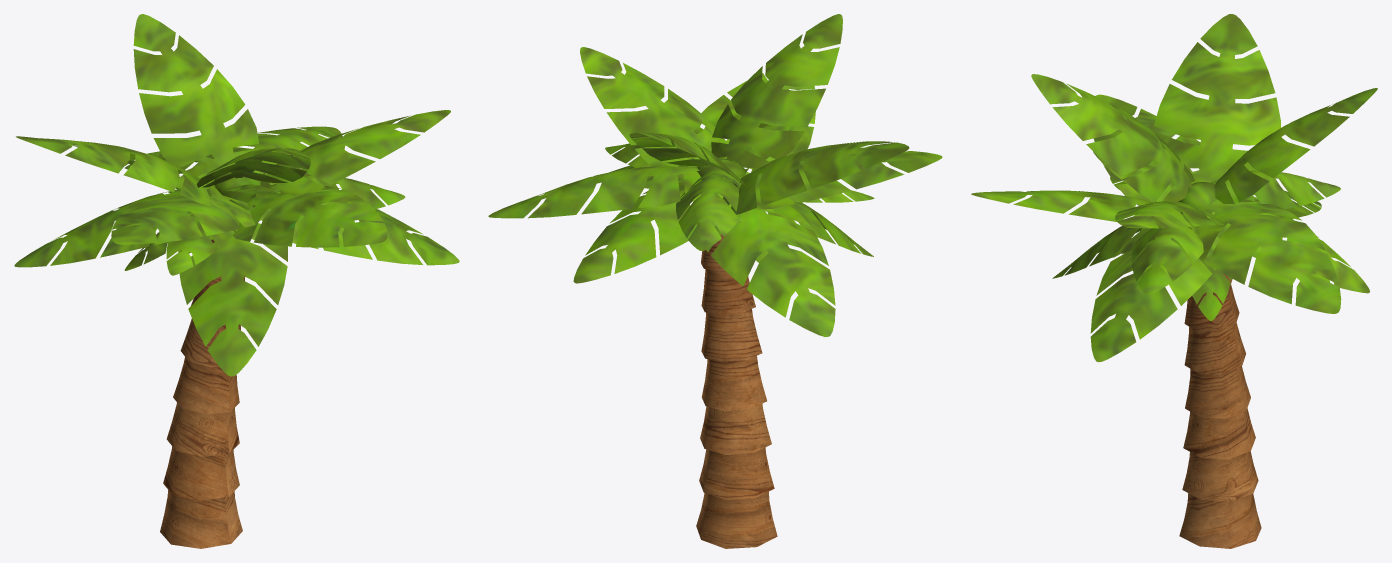
The model's file is Palmera.fbx.
The picture shows the model from 3 angles, left to right: view 1: azimuth 30°, elevation 25°; view 2: azimuth 150°, elevation 25°; view 3: azimuth 270°, elevation 25°; orthographic projection.
Parts seen in each view (by area): view 1: Tronco_A1; view 2: Tronco_A1; view 3: Tronco_A1.
Boxes of the visible parts, x1,y1,x2,y2 form: Tronco_A1: (14, 14, 459, 548); Tronco_A1: (488, 14, 942, 548); Tronco_A1: (971, 14, 1377, 548).
Size of the model in its own units: 4.93 by 5.61 by 4.56.
